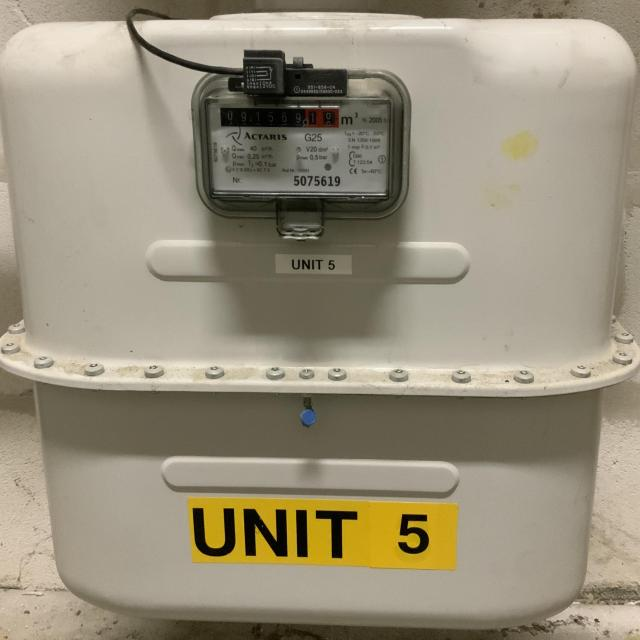gaz_meter: (208, 90, 397, 198)
indication: (220, 106, 340, 128)
